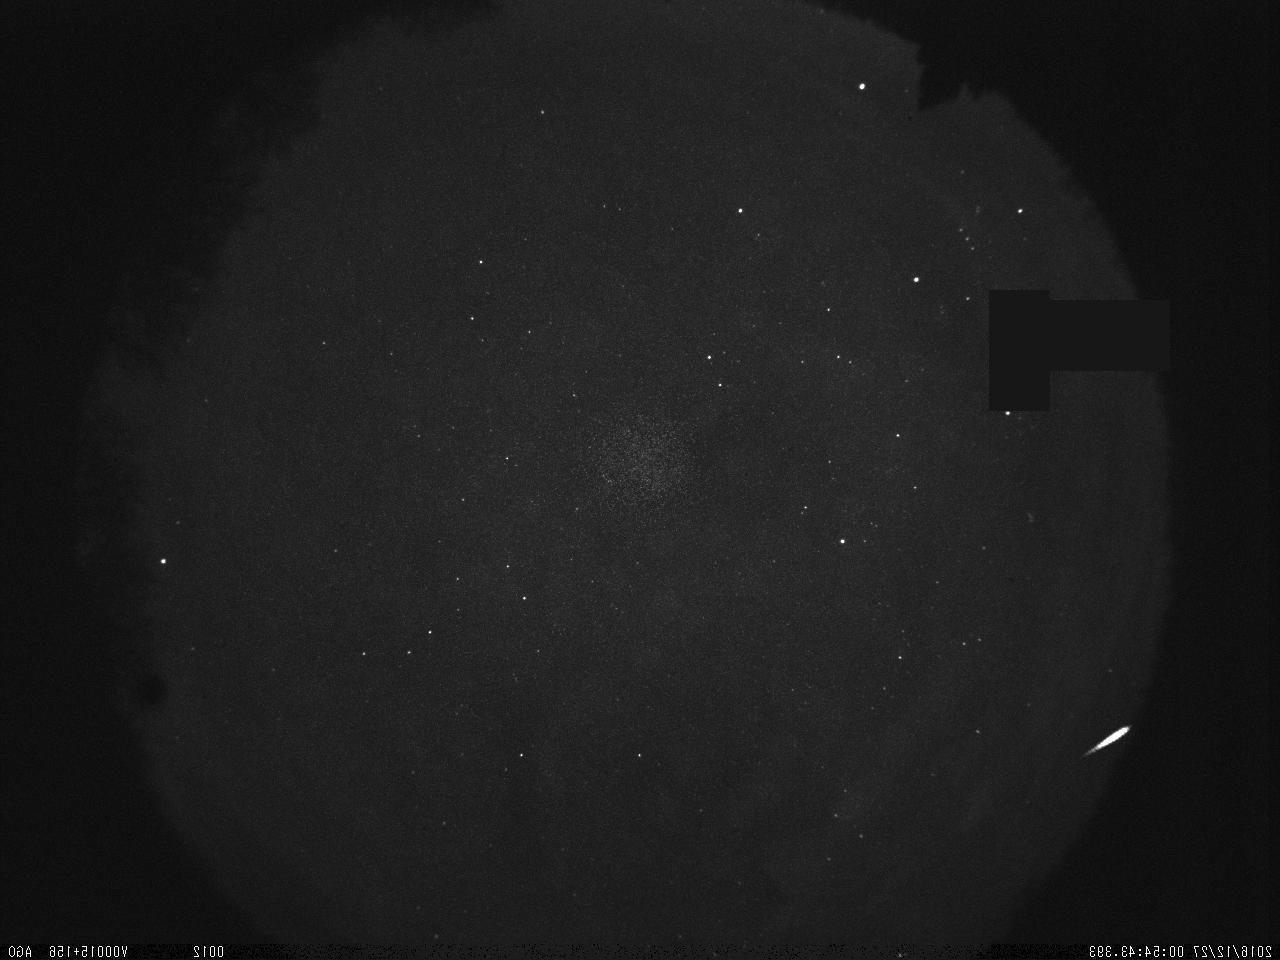meteor: (1068, 716, 1139, 770)
